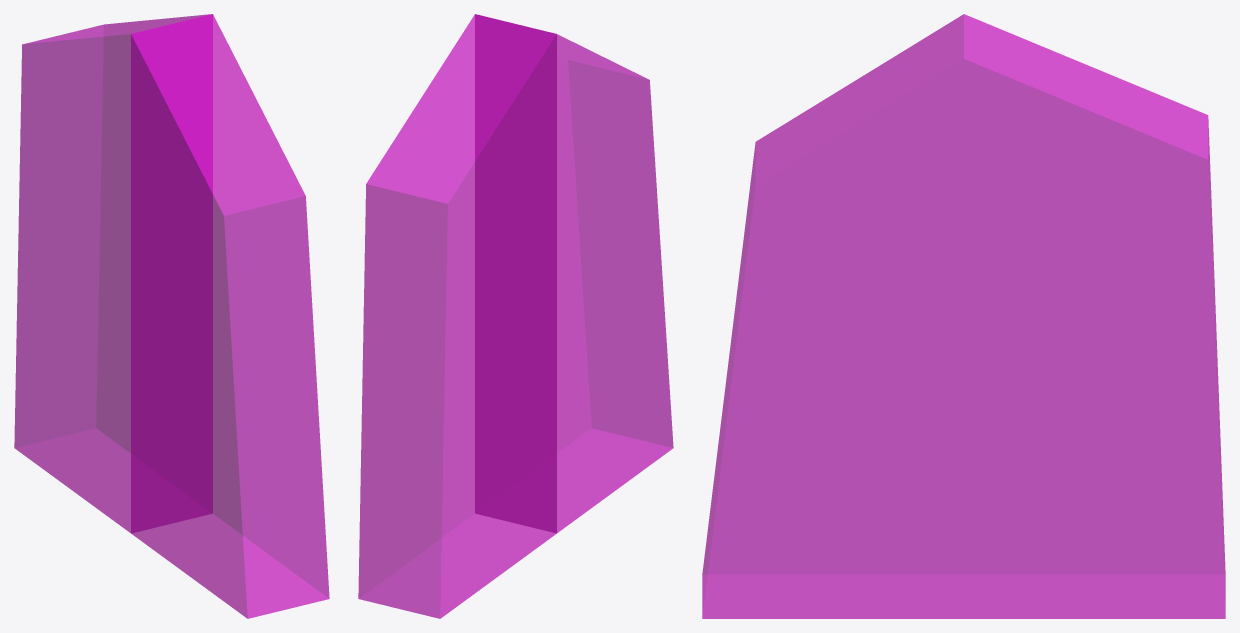
File: SM_Veh_Ship_L_Rudder_01_Flap_01_Collision.fbx
3 views of the same model, side by side, from view 1: azimuth 30°, elevation 25°; view 2: azimuth 150°, elevation 25°; view 3: azimuth 270°, elevation 25° (orthographic). The views are drawn at different scales.
Visible parts, largest first — view 1: SM_Veh_Ship_L_Rudder_01_Flap_01_Collision; view 2: SM_Veh_Ship_L_Rudder_01_Flap_01_Collision; view 3: SM_Veh_Ship_L_Rudder_01_Flap_01_Collision.
Part boxes in pixels (x1=…): SM_Veh_Ship_L_Rudder_01_Flap_01_Collision: x1=14, y1=14, x2=329, y2=618; SM_Veh_Ship_L_Rudder_01_Flap_01_Collision: x1=358, y1=14, x2=673, y2=618; SM_Veh_Ship_L_Rudder_01_Flap_01_Collision: x1=702, y1=14, x2=1225, y2=618.
Bounding box in the file's own units: 70.17 × 409 × 346.
